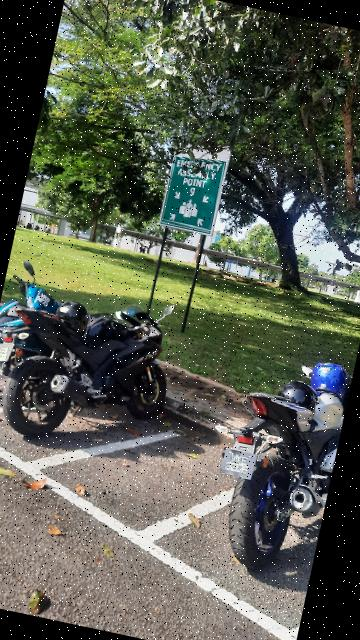License_Plate: (219, 447, 263, 485), (34, 290, 62, 315), (1, 343, 15, 367)
motorcycle: (191, 335, 357, 589), (1, 249, 192, 463)
